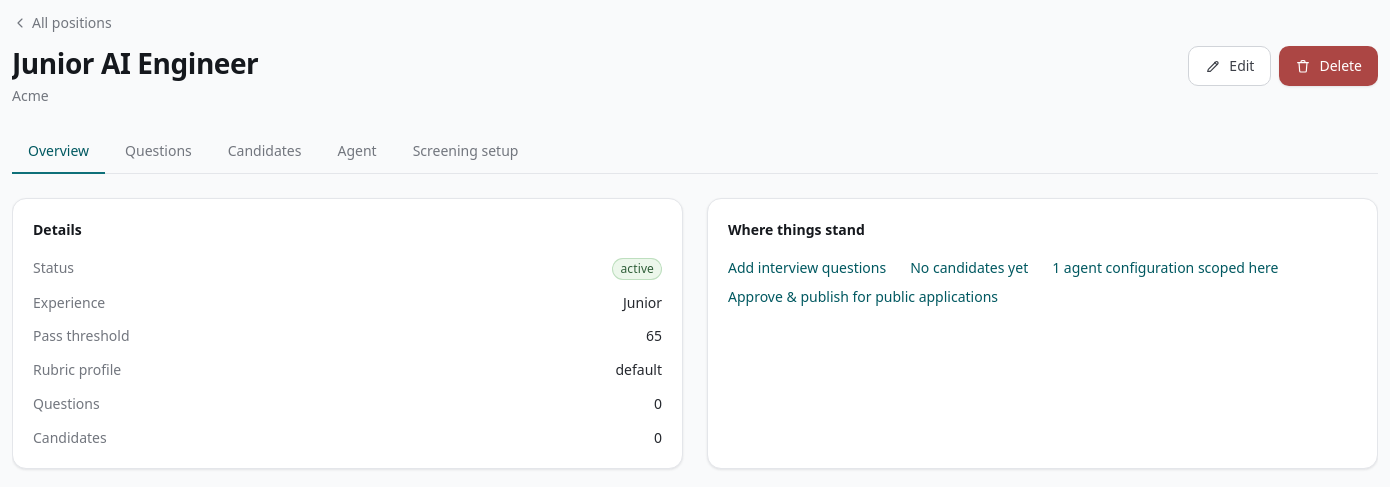
Test: PositionDetailPage › shows only the agent configuration scoped to this position, not one scoped elsewhere
What coordinates should you click on to do the following:
click the tab "Agent"
I would click on:
 (357, 152)
Its box is [322,130,393,174].
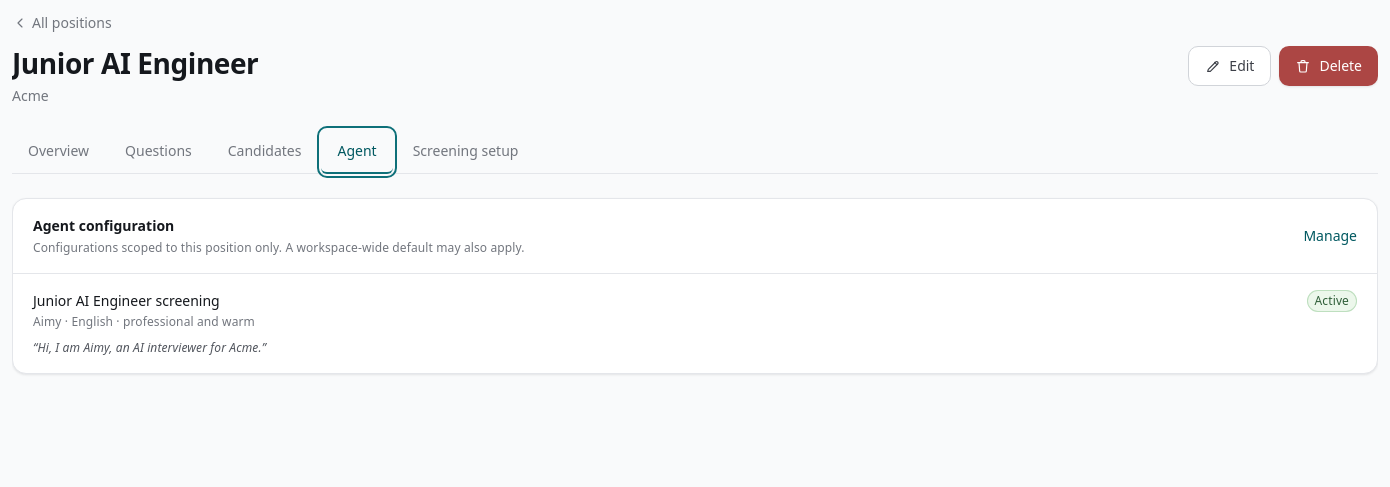
Now the text "Junior AI Engineer screening" is shown, box [33,291,220,310]
